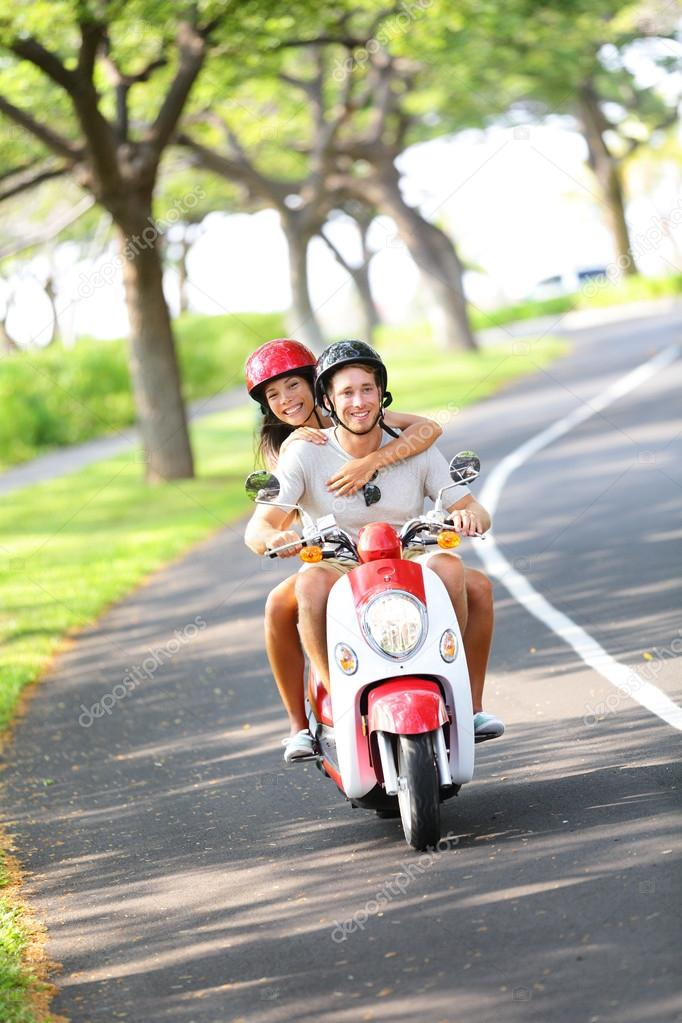helmet: (308, 331, 393, 400), (235, 350, 324, 378)
